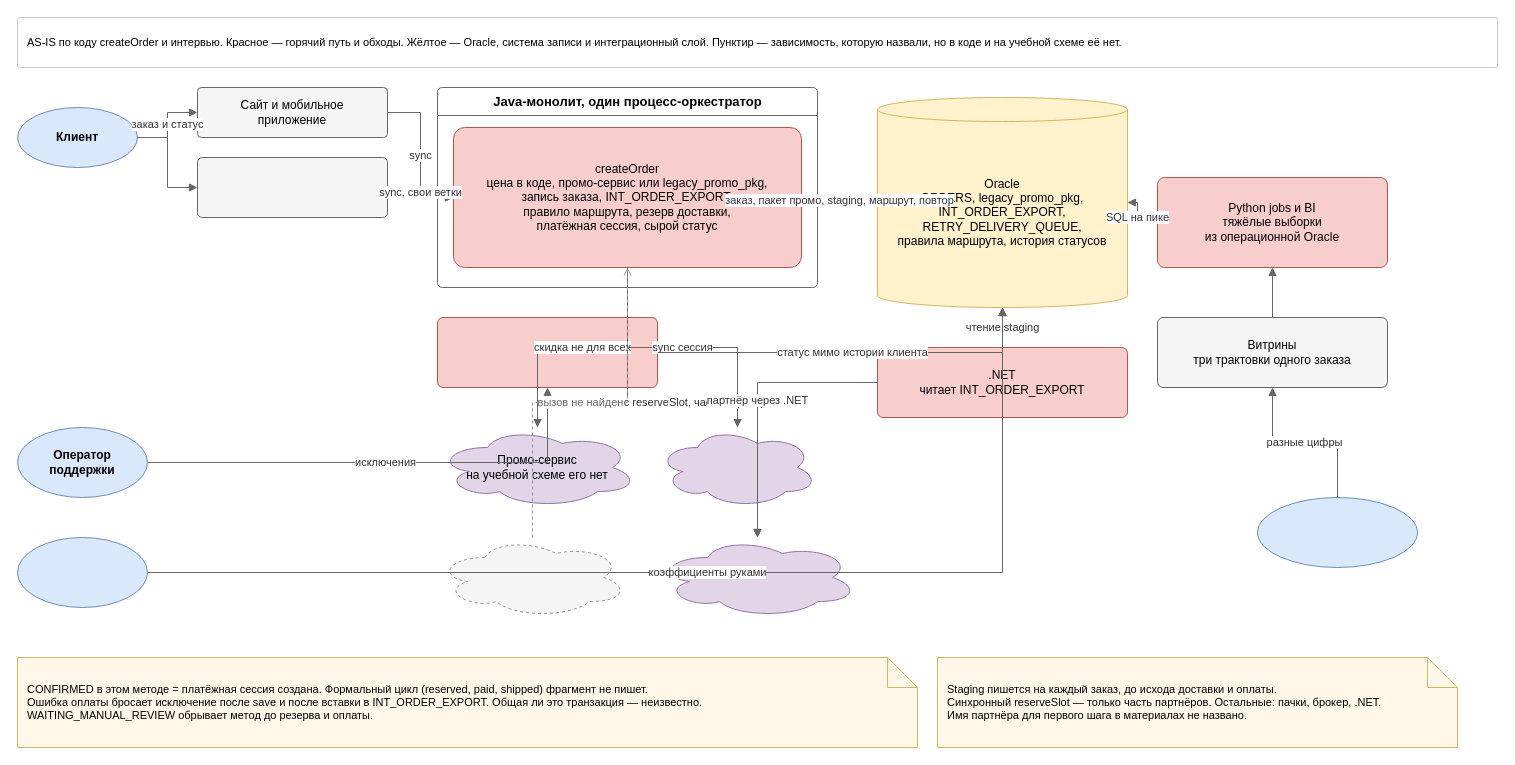
Image size: 1515x765. Some labels were removed from this diagram. Here are the shapes that lost their labels. From the top down, the centre of each, then its label:
the point at 292,187: Маркетплейсы другие ветки того же метода
the point at 547,352: Админка правка технического статуса
the point at 737,467: Платёжные провайдеры
the point at 1337,532: Маркетинг, финансы, операции
the point at 82,572: Операционный блок
the point at 532,577: Сервис наличия только со слов техлида
the point at 757,577: Службы доставки 4 способа обмена
